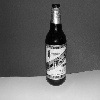beer: (43, 2, 71, 95)
